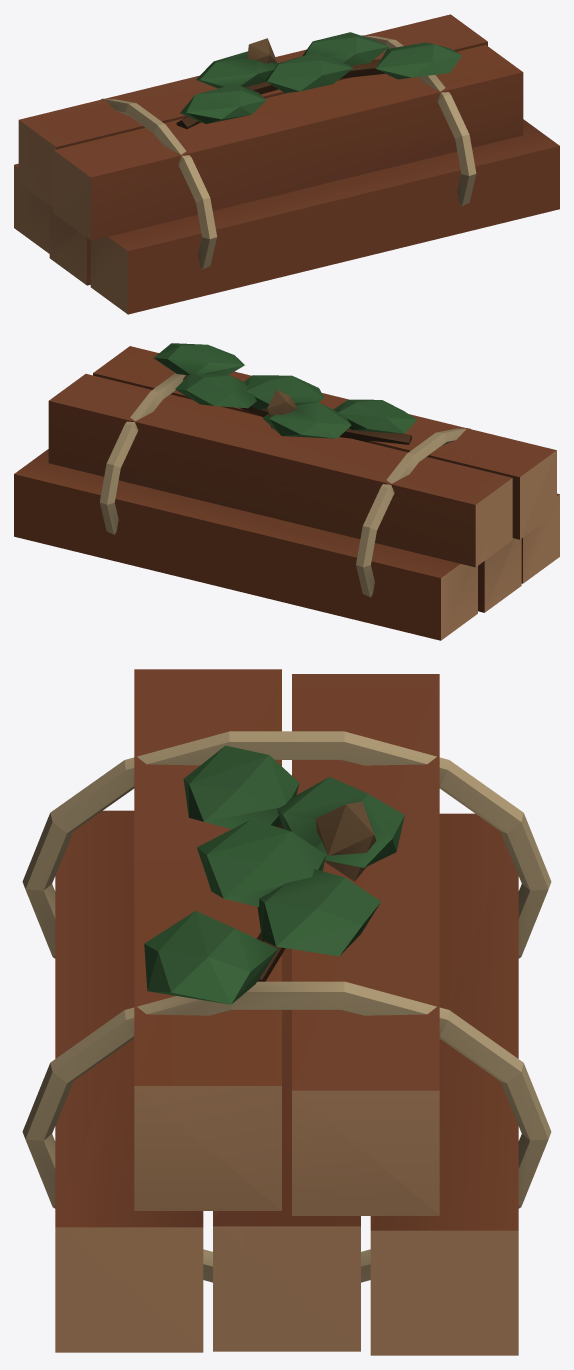
3 views of the same model, one above another, from view 1: azimuth 30°, elevation 25°; view 2: azimuth 150°, elevation 25°; view 3: azimuth 270°, elevation 25° (orthographic). The views are drawn at different scales.
Parts seen in each view (by area): view 1: base; view 2: base; view 3: base.
Part boxes in pixels (x1,y1,x2,y2): base: (14,14,559,314); base: (14,343,559,640); base: (22,669,551,1355).
Size of the model in its own units: 0.5233 by 0.2028 by 0.2683.
